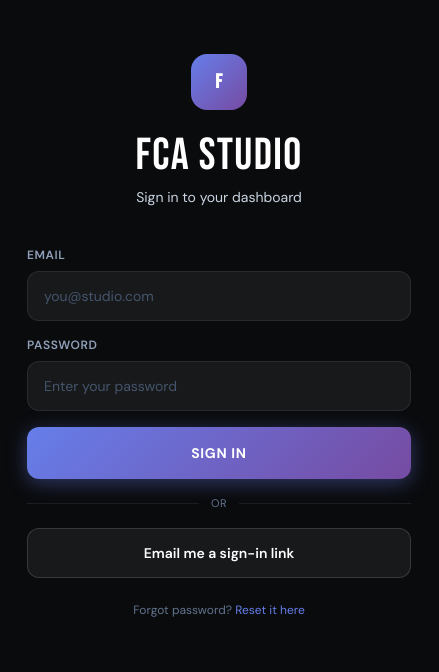
AG-1.4 Part 1 /login sign-in link › the 60s limit says wait; any other failure is visible
This screenshot has width=439, height=672.
In the field with placeholder "you@studio.com": x=219, y=296 left=27, top=271, right=411, bottom=321, type "owner@studio.com"
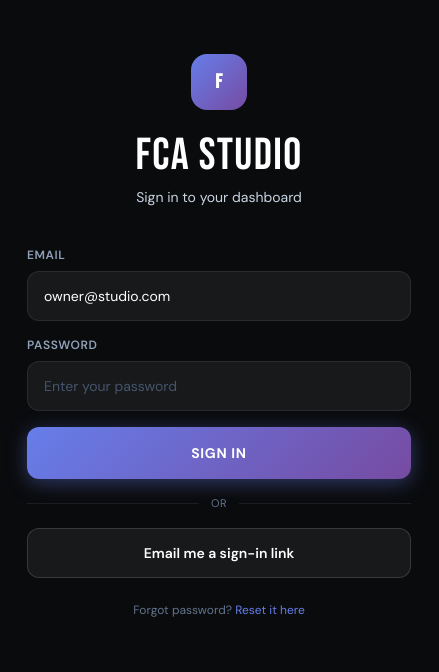
Click the button "Email me a sign-in link": x=219, y=553 left=27, top=528, right=411, bottom=578
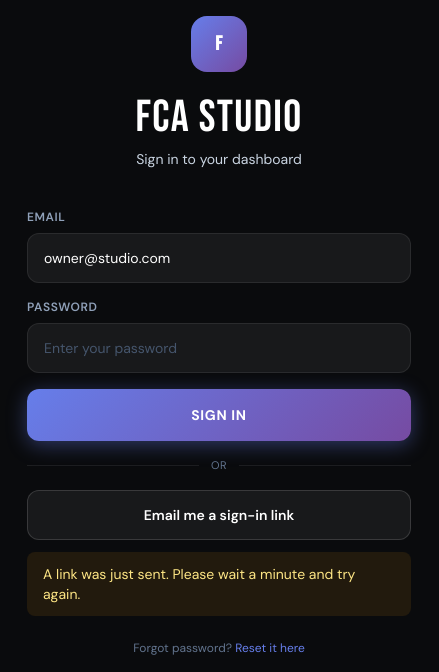
Now the message shows "wait a minute", box left=43, top=565, right=355, bottom=603
Click the button "Email me a sign-in link": x=219, y=515 left=27, top=490, right=411, bottom=540
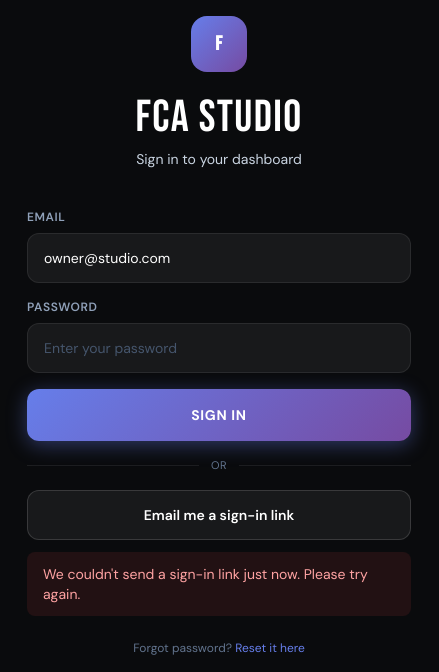
Now the message shows "couldn't send", box left=43, top=565, right=368, bottom=603
